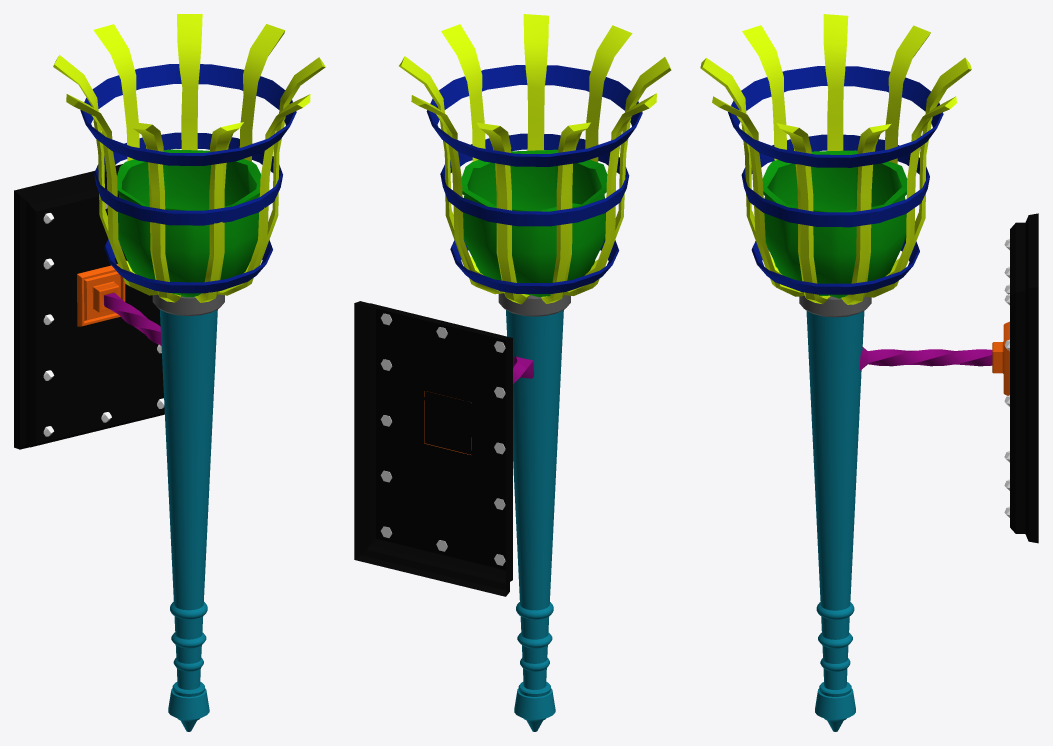
3 views of the same model, side by side, from view 1: azimuth 30°, elevation 25°; view 2: azimuth 150°, elevation 25°; view 3: azimuth 270°, elevation 25° (orthographic).
Parts seen in each view (by area): view 1: Box001 (×9); view 2: Box001 (×7); view 3: Box001 (×8).
Boxes of the visible parts, x1,y1,x2,y2 form: Box001 (×9): (14,14,325,731); Box001 (×7): (354,14,671,731); Box001 (×8): (700,14,1038,731).
Bounding box in the file's own units: 0.7366 × 2 × 0.9282.
